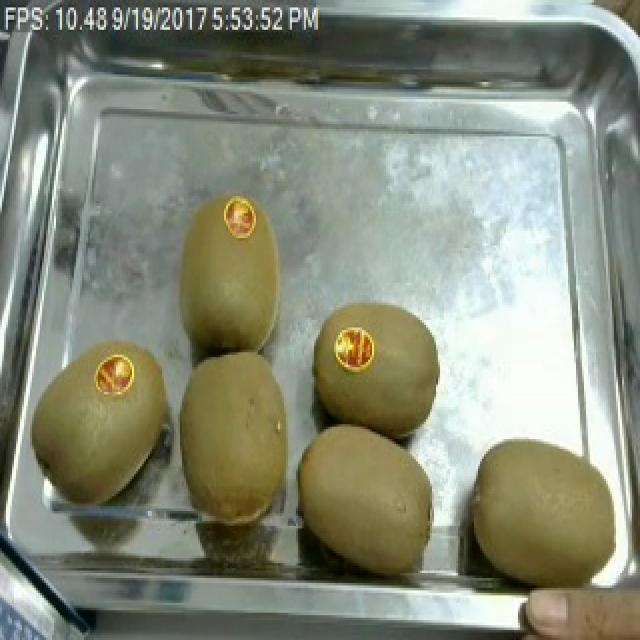Fruit: (460, 429, 634, 593), (18, 340, 180, 516), (166, 337, 304, 536), (284, 414, 444, 576), (162, 181, 296, 362), (312, 298, 446, 444), (516, 563, 640, 640)
